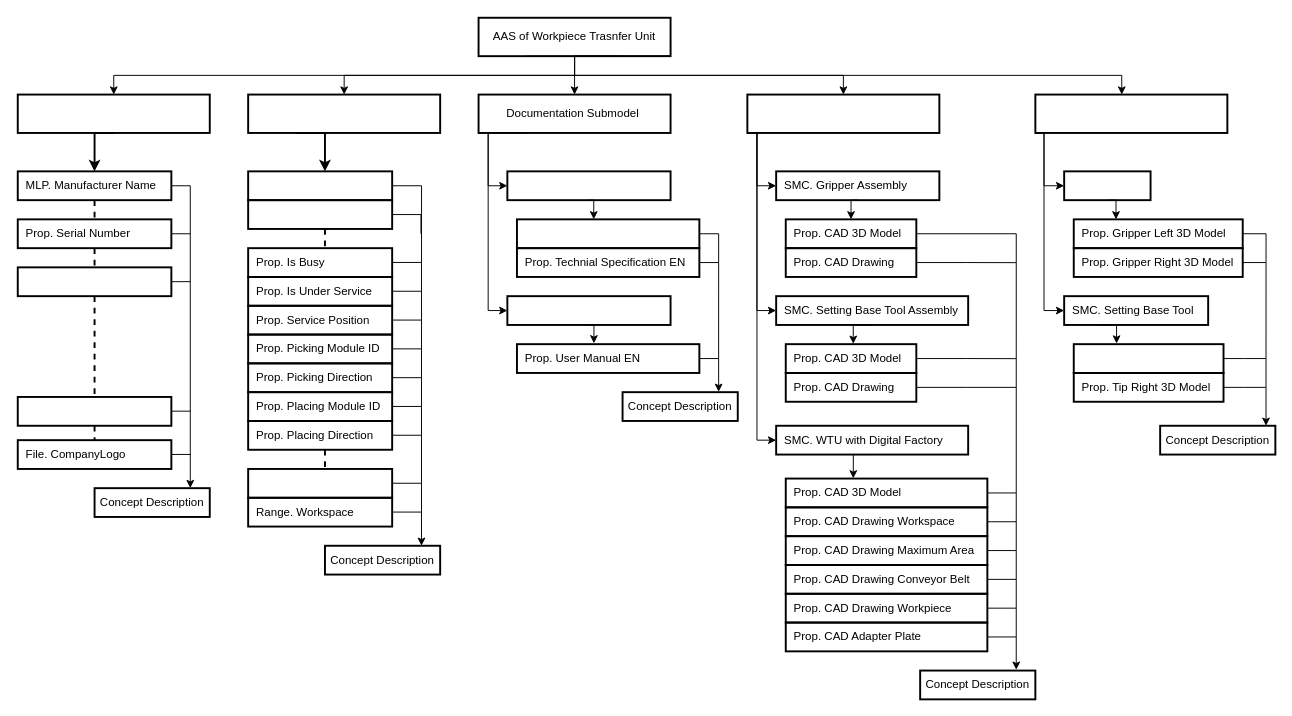
Some shapes in this 1292 by 716 pixel diagram are drawn without their labels. The centre of each missing label's shape, as x and y in pixels:
"CAD Submodel" belongs at pixel 843 113.
"MLP. Hardware Version" belongs at pixel 94 281.
"Model 3D Print Submodel" belongs at pixel 1131 113.
"Nameplate Submodel" belongs at pixel 113 113.
"Operational Submodel" belongs at pixel 344 113.
"Opr. Pick and Place" belongs at pixel 320 185.
"Opr. Service" belongs at pixel 320 214.
"Prop. Country of Origin" belongs at pixel 94 411.
"Prop. Holder 3D Model" belongs at pixel 1148 358.
"Prop. Technial Specification DE" belongs at pixel 608 233.
"Range. Loading Capacity" belongs at pixel 320 483.
"SMC. Gripper" belongs at pixel 1107 185.
"SMC. Technial Specification" belongs at pixel 588 185.
"SMC. User Manual" belongs at pixel 588 310.
